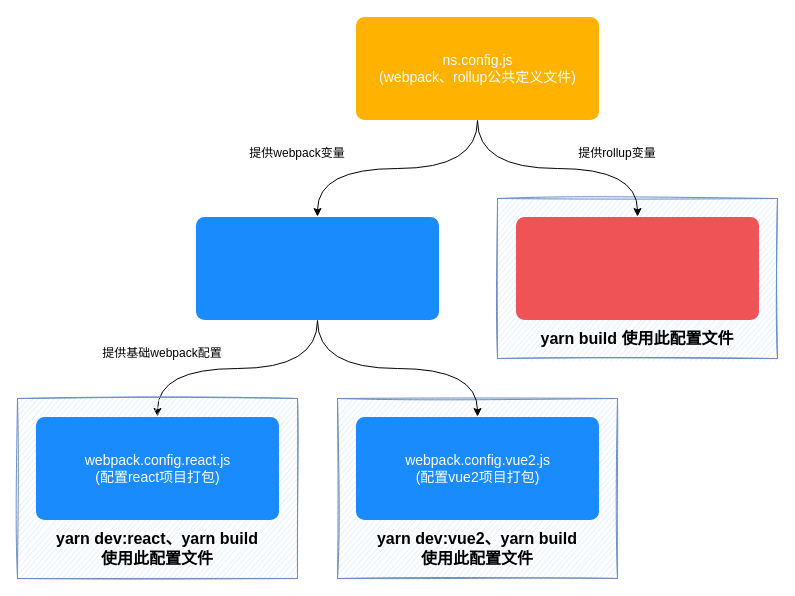
This 795x596 diagram has some shape labels left out. The centre of each missing label's shape, as x and y in pixels:
"rollup.config.js (rollup配置文件)" belongs at pixel 637 268.
"webpack.common.js (webpack基础配置文件)" belongs at pixel 317 268.
